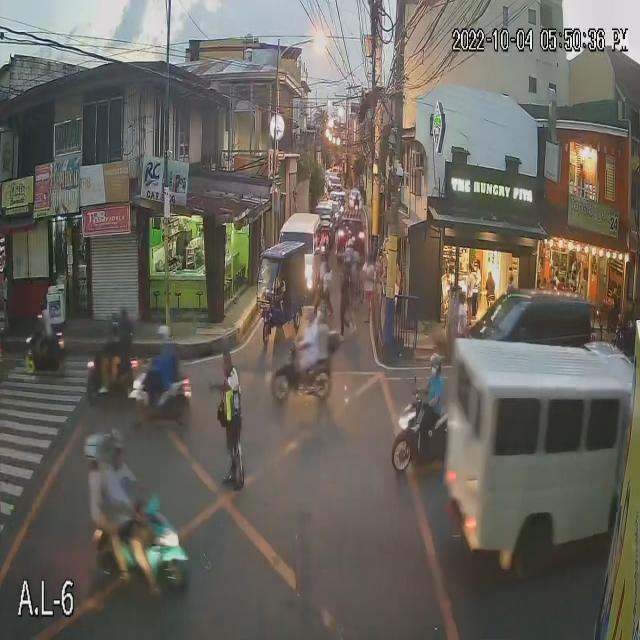helmet: (82, 434, 110, 468), (106, 430, 124, 462), (156, 322, 170, 347), (429, 353, 442, 378), (122, 307, 135, 327), (37, 295, 52, 311), (104, 317, 121, 331)
motorcycle: (94, 497, 192, 592), (387, 400, 468, 471), (77, 352, 144, 410), (265, 355, 344, 402), (131, 369, 192, 426), (21, 331, 70, 373)
rider: (81, 435, 116, 534), (105, 429, 139, 526), (419, 345, 448, 435), (298, 303, 323, 375), (34, 291, 60, 352), (158, 319, 181, 383), (117, 306, 134, 359), (103, 316, 119, 363)
